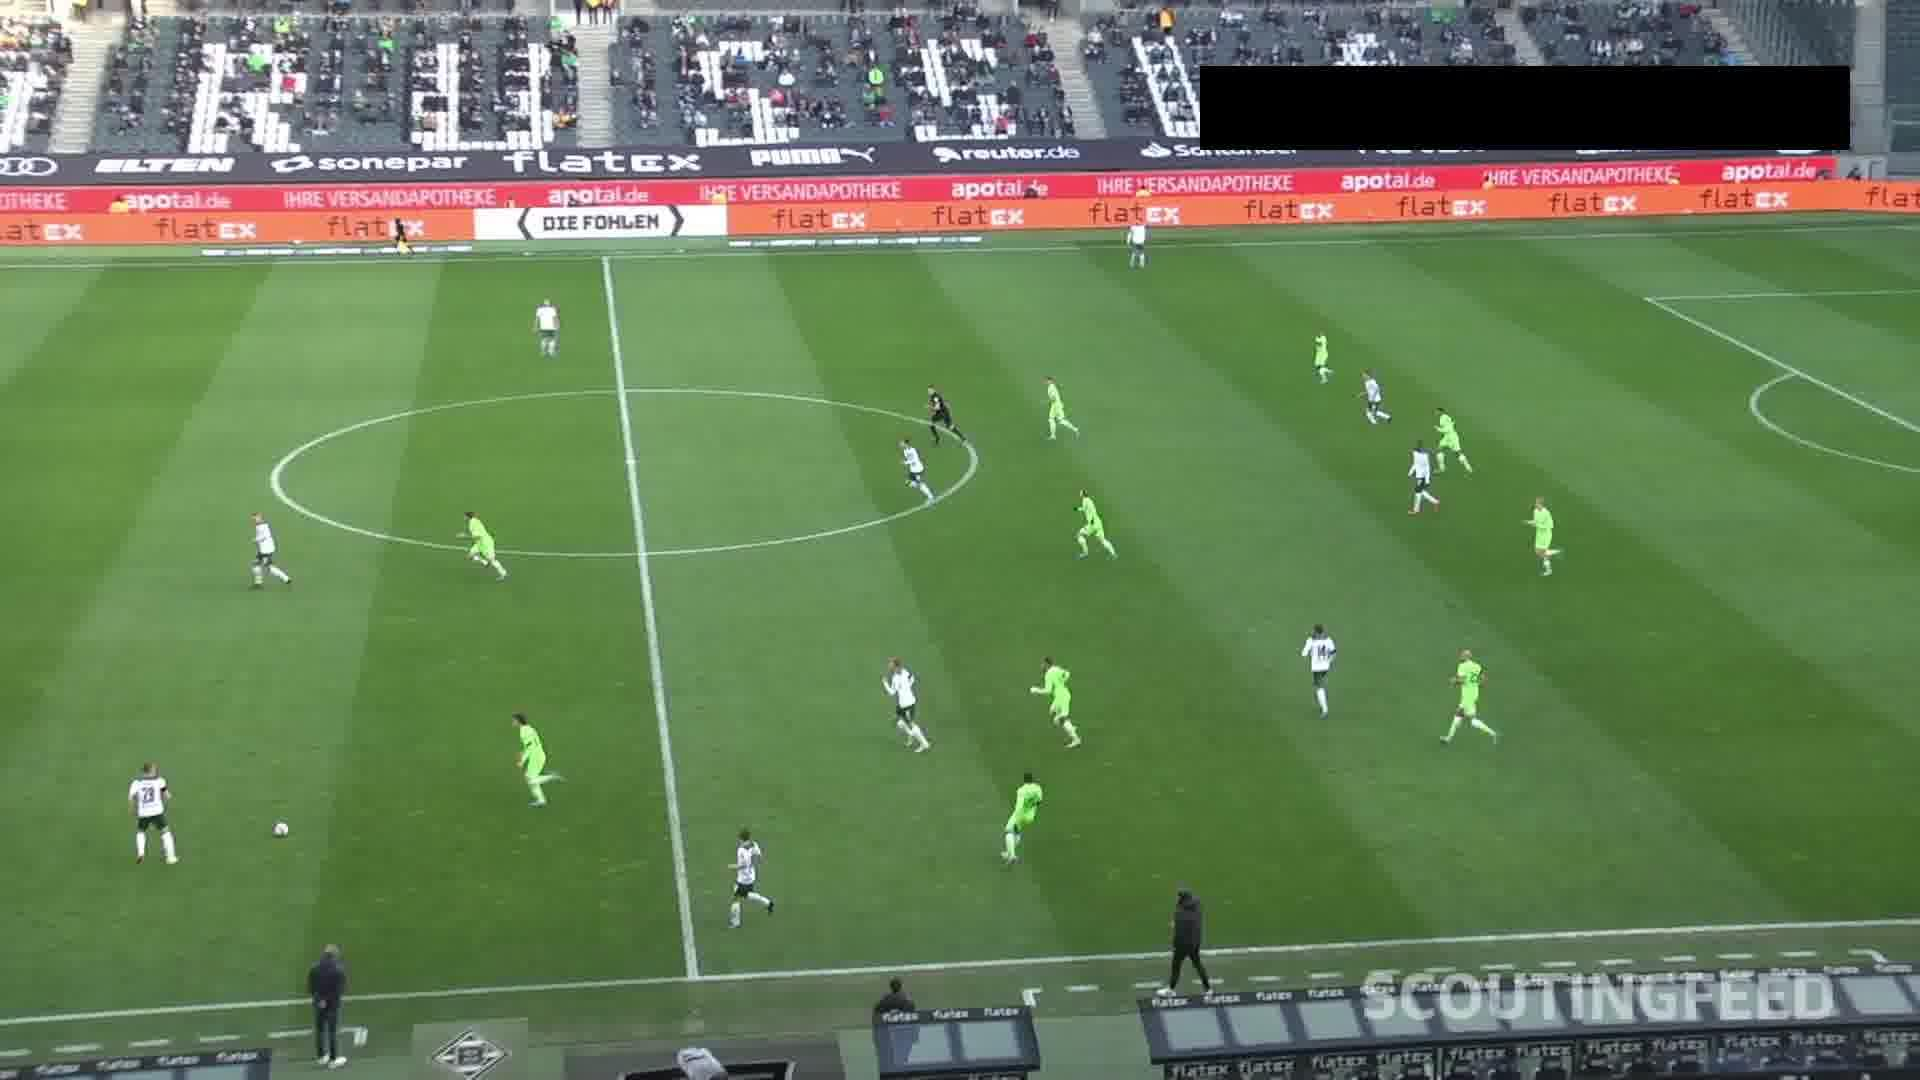football: (270, 819, 289, 839)
